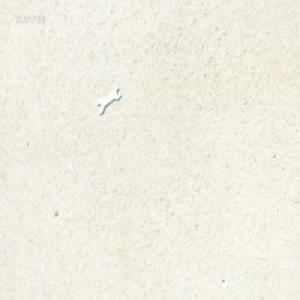Wrench: (96, 87, 120, 116)
